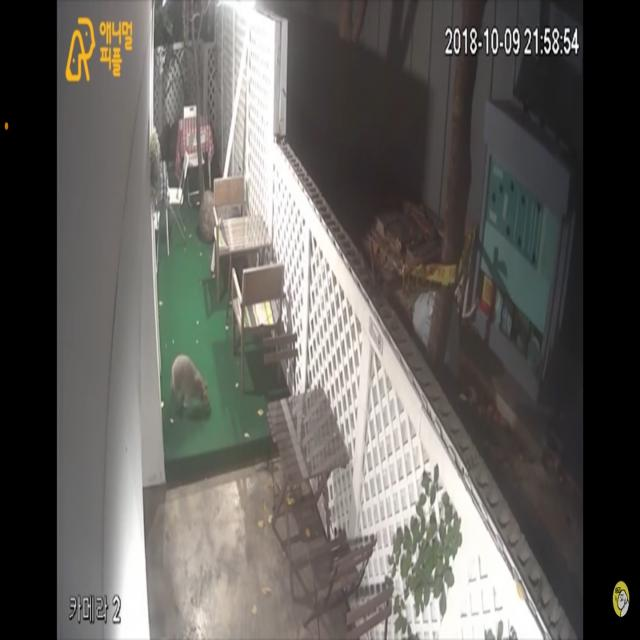racoon: (172, 352, 211, 430)
